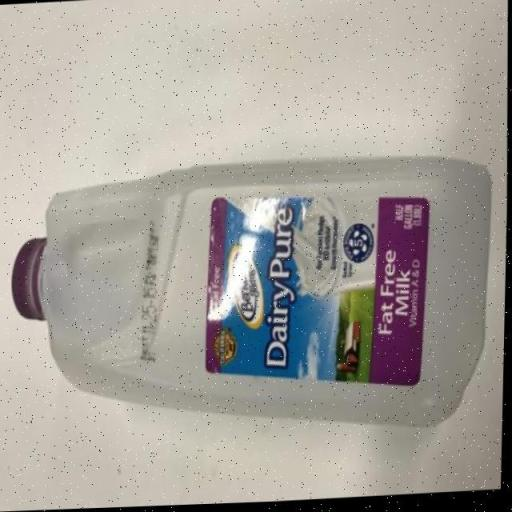plastic: (13, 160, 492, 428)
